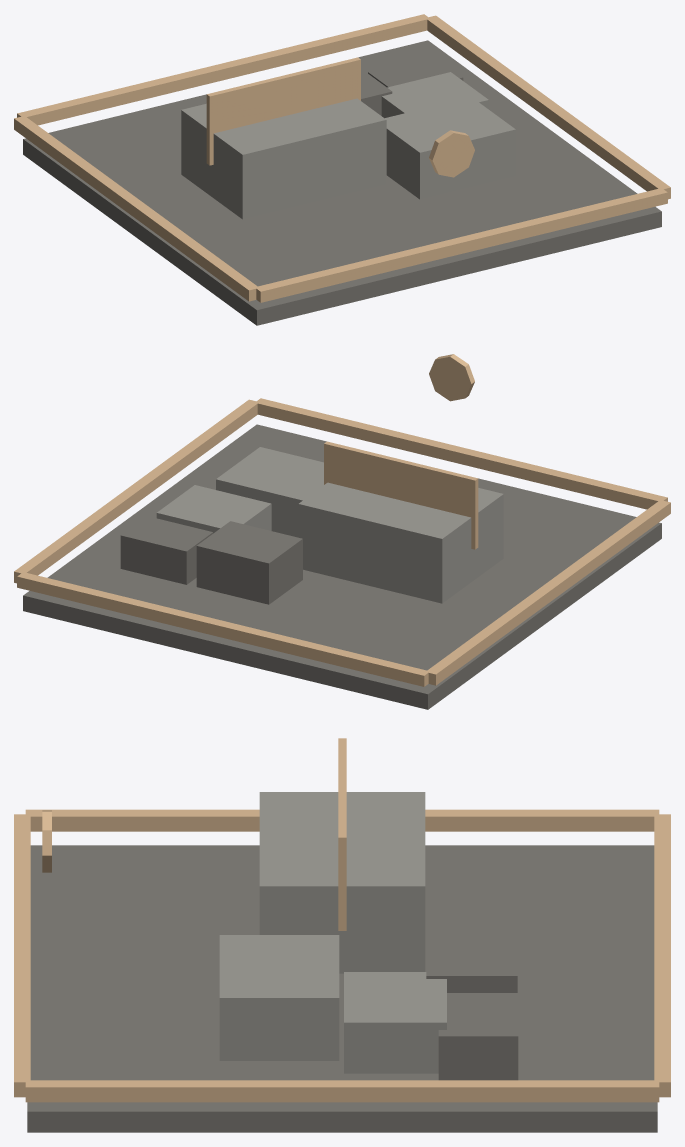
Rendered from t2_stonecutter.glb.
3 renders of one model, top to bottom at view 1: azimuth 30°, elevation 25°; view 2: azimuth 150°, elevation 25°; view 3: azimuth 270°, elevation 25°, orthographic. The views are drawn at different scales.
Visible parts, largest first — view 1: FootprintBase, WorkBlock, InputStonePileA, TierFrontTrim, TierBackTrim, CutLine, TierLeftTrim, TierRightTrim, InputStonePileB, TierEmblem, OutputBlockB, OutputBlockA; view 2: FootprintBase, WorkBlock, TierBackTrim, TierFrontTrim, OutputBlockA, CutLine, TierLeftTrim, InputStonePileA, TierRightTrim, OutputBlockB, InputStonePileB, TierEmblem; view 3: FootprintBase, WorkBlock, InputStonePileA, TierRightTrim, TierLeftTrim, InputStonePileB, OutputBlockB, OutputBlockA, TierBackTrim, TierFrontTrim, CutLine, TierEmblem.
Part boxes in pixels (x1,y1,x2,y2): FootprintBase: (23, 40, 661, 325); WorkBlock: (181, 98, 386, 219); InputStonePileA: (385, 97, 515, 199); TierFrontTrim: (255, 188, 667, 302); TierBackTrim: (17, 14, 429, 125); CutLine: (206, 57, 360, 165); TierLeftTrim: (14, 116, 259, 301); TierRightTrim: (427, 15, 670, 199); InputStonePileB: (381, 72, 488, 118); TierEmblem: (429, 130, 474, 177); OutputBlockB: (368, 56, 463, 87); OutputBlockA: (361, 69, 392, 115); FootprintBase: (23, 424, 661, 709); WorkBlock: (298, 482, 503, 603); TierBackTrim: (17, 572, 429, 686); TierFrontTrim: (255, 398, 667, 509); OutputBlockA: (196, 521, 302, 604); CutLine: (324, 441, 478, 549); TierLeftTrim: (426, 500, 670, 685); InputStonePileA: (216, 447, 323, 537); TierRightTrim: (14, 399, 258, 583); OutputBlockB: (120, 514, 212, 584); InputStonePileB: (156, 485, 271, 533); TierEmblem: (429, 354, 474, 401); FootprintBase: (27, 845, 657, 1132); WorkBlock: (259, 792, 425, 973); InputStonePileA: (219, 935, 339, 1060); TierRightTrim: (25, 1080, 659, 1102); TierLeftTrim: (25, 809, 659, 831); InputStonePileB: (344, 972, 446, 1073); OutputBlockB: (438, 993, 518, 1080); OutputBlockA: (426, 928, 517, 992); TierBackTrim: (654, 814, 670, 1097); TierFrontTrim: (14, 814, 30, 1097); CutLine: (338, 738, 346, 930); TierEmblem: (42, 810, 51, 872).
Size of the model in its own units: 3.96 by 1.25 by 3.96.
